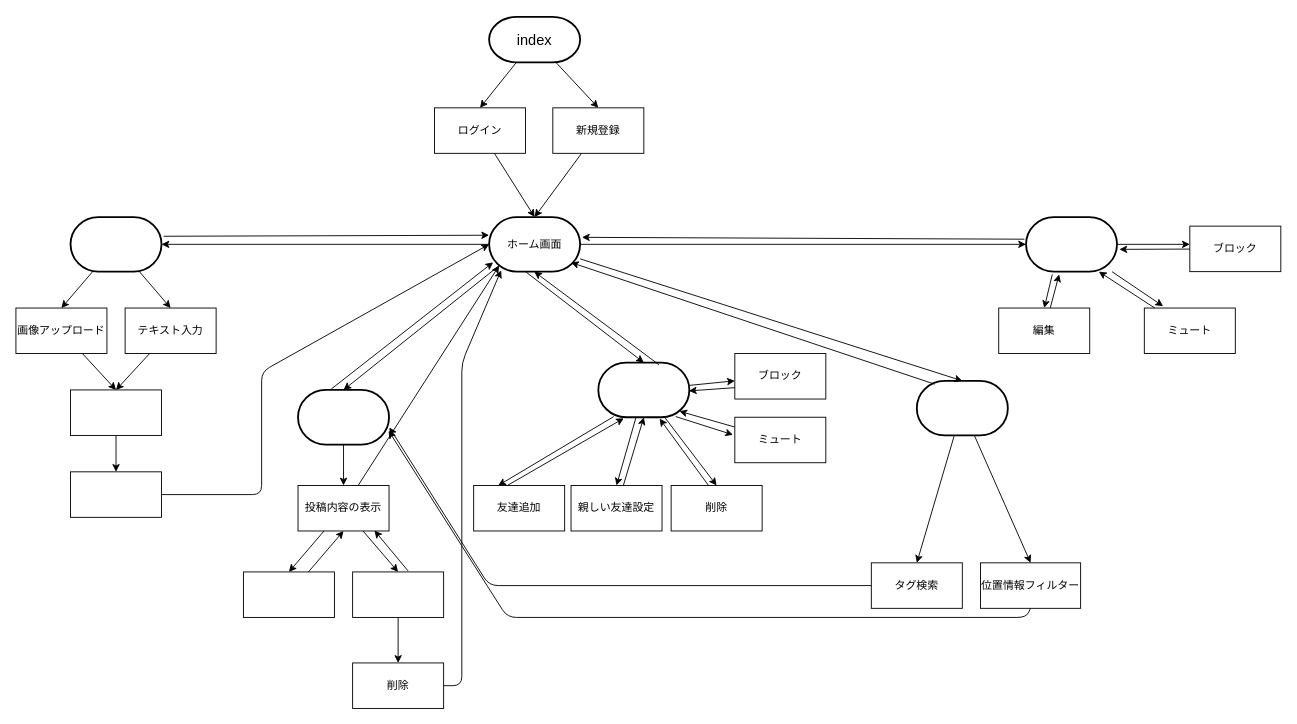
Some shapes in this 1297 by 724 pixel diagram are drawn without their labels. The box of each missing label's shape, as (x1, y1, x2, y2) in pixels:
いいね: (243, 571, 334, 617)
プロフィール: (1025, 216, 1117, 272)
公開範囲設定: (70, 389, 162, 435)
友達: (597, 361, 690, 418)
投稿: (69, 216, 162, 272)
投稿保存: (70, 471, 162, 517)
検索・フィルター: (915, 379, 1008, 436)
編集 （投稿者のみ）: (352, 571, 444, 617)
閲覧: (297, 389, 389, 445)
